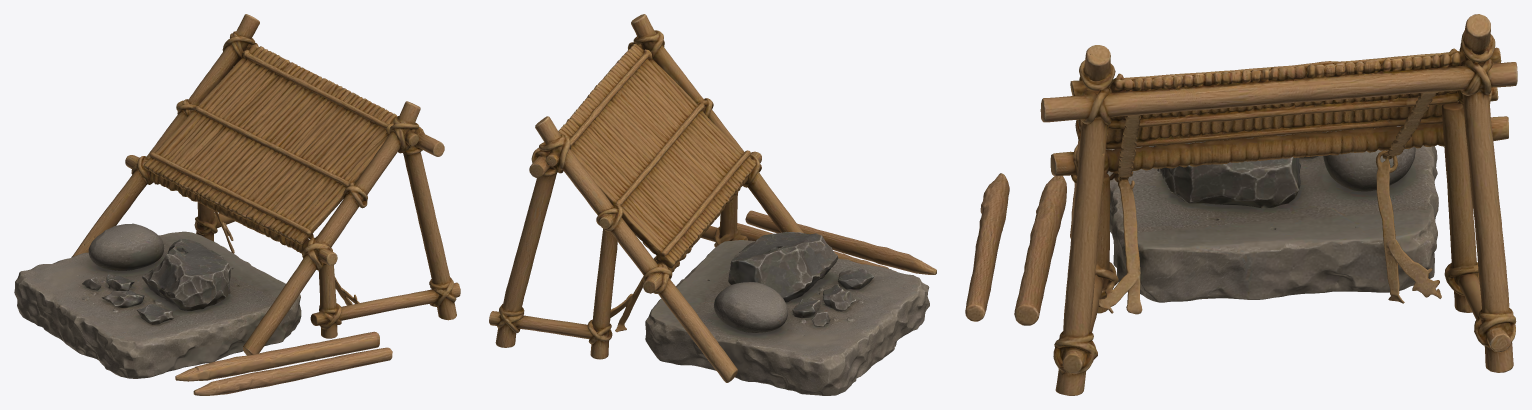
The model's file is Tool Maker (East Asian).fbx.
3 views of the same model, side by side, from view 1: azimuth 30°, elevation 25°; view 2: azimuth 150°, elevation 25°; view 3: azimuth 270°, elevation 25° (orthographic). The views are drawn at different scales.
Visible parts, largest first — view 1: tripo_node_ecd1a4f0; view 2: tripo_node_ecd1a4f0; view 3: tripo_node_ecd1a4f0.
Part boxes in pixels (box(x1,y1,x2,y2)): tripo_node_ecd1a4f0: box(14, 14, 460, 395); tripo_node_ecd1a4f0: box(489, 14, 936, 395); tripo_node_ecd1a4f0: box(965, 14, 1517, 395).
Size of the model in its own units: 1 by 0.6299 by 0.9532.
